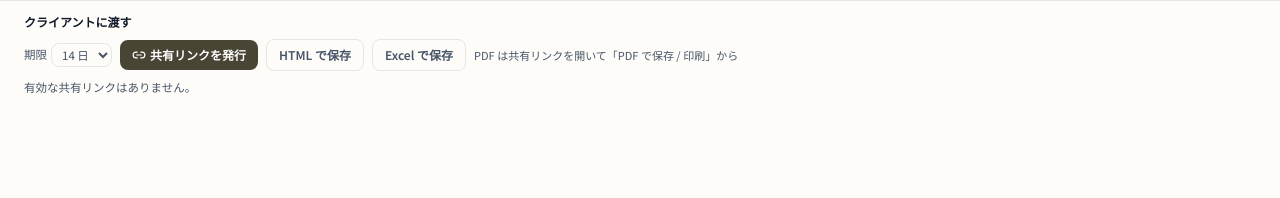
Test: ShareExportPanel (GAP-162) › 共有リンクを発行すると URL がその場で出る (再取得できない旨も明示)
This screenshot has width=1280, height=198.
Step 1. Click the button "共有リンクを発行" → point(189, 55), box [120,40,258,70]
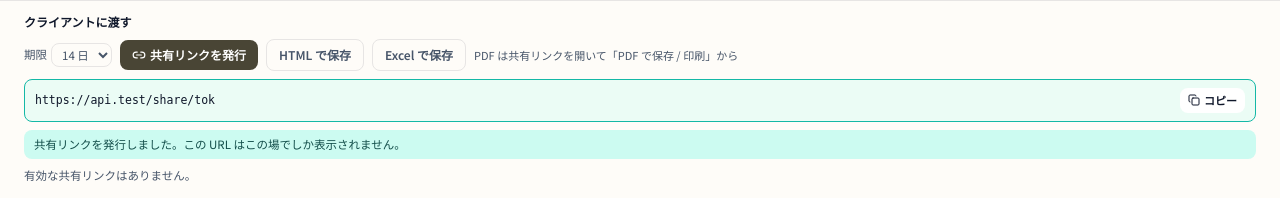
Expected: the text "https://api.test/share/tok" is shown, [35,93,215,107]
Expected: the message shows "この場でしか表示されません", [34,136,406,152]
